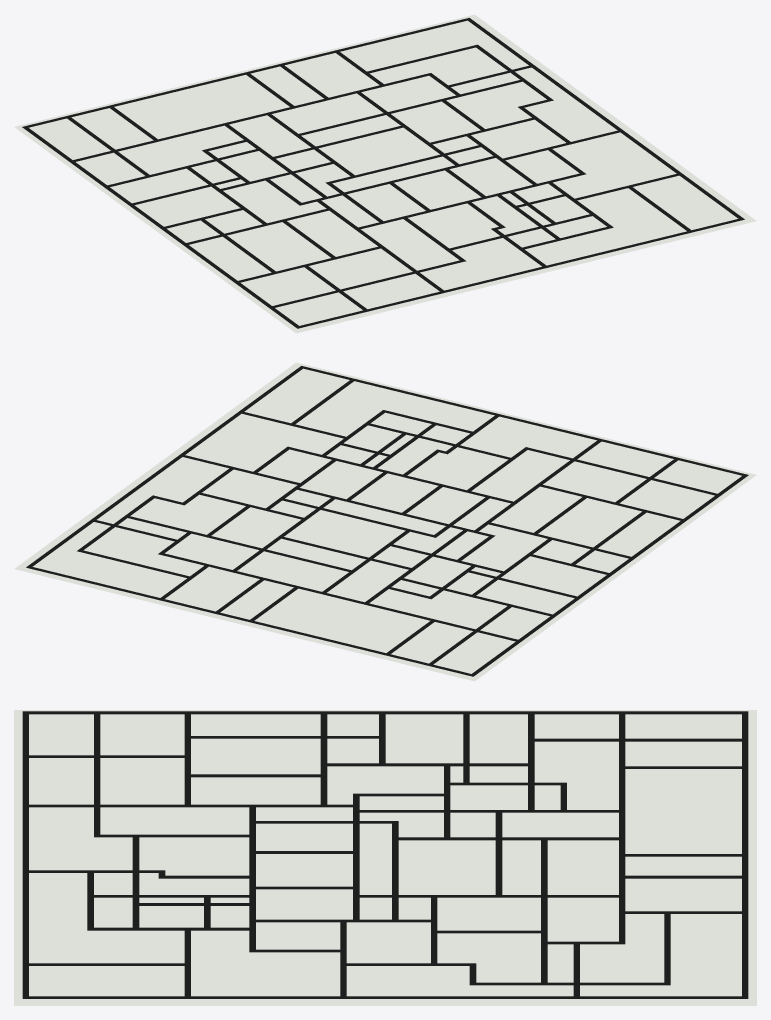
The model's file is Jalan.glb.
The picture shows the model from 3 angles, top to bottom: view 1: azimuth 30°, elevation 25°; view 2: azimuth 150°, elevation 25°; view 3: azimuth 270°, elevation 25°; orthographic projection. The views are drawn at different scales.
Parts seen in each view (by area): view 1: Plane001; view 2: Plane001; view 3: Plane001.
Part boxes in pixels (bbox=[...]): Plane001: bbox=[14, 14, 756, 333]; Plane001: bbox=[14, 362, 756, 681]; Plane001: bbox=[14, 710, 756, 1005].
Size of the model in its own units: 32.96 by 0.079 by 34.97.
1 material, 1 textured.
